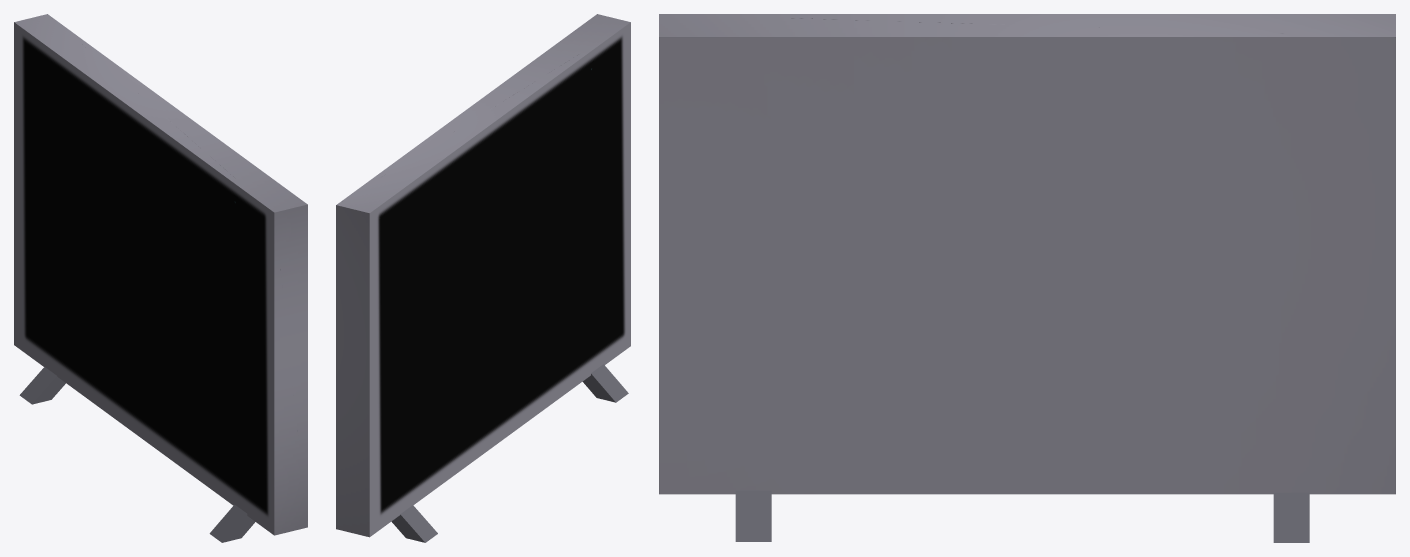
3 views of the same model, side by side, from view 1: azimuth 30°, elevation 25°; view 2: azimuth 150°, elevation 25°; view 3: azimuth 270°, elevation 25° (orthographic). The views are drawn at different scales.
Visible parts, largest first — view 1: TV; view 2: TV; view 3: TV.
Boxes of the visible parts, x1,y1,x2,y2 form: TV: [14, 14, 307, 542]; TV: [336, 14, 630, 542]; TV: [659, 14, 1395, 542].
Bounding box in the file's own units: 156 × 610 × 835.
